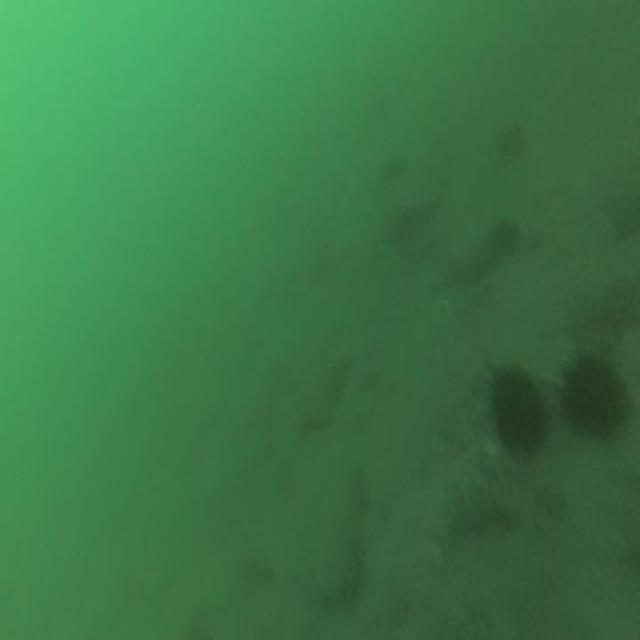echinus: (566, 358, 622, 438), (492, 368, 544, 451), (490, 220, 516, 254), (503, 123, 525, 158)
